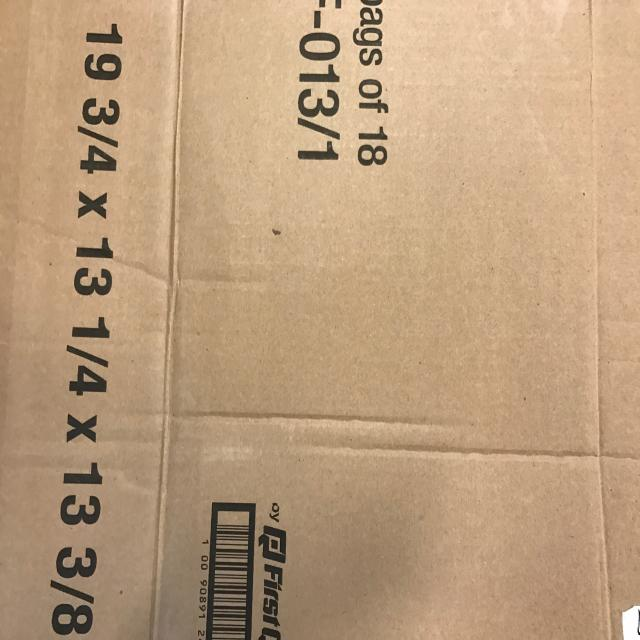cardboard: (1, 1, 638, 638)
